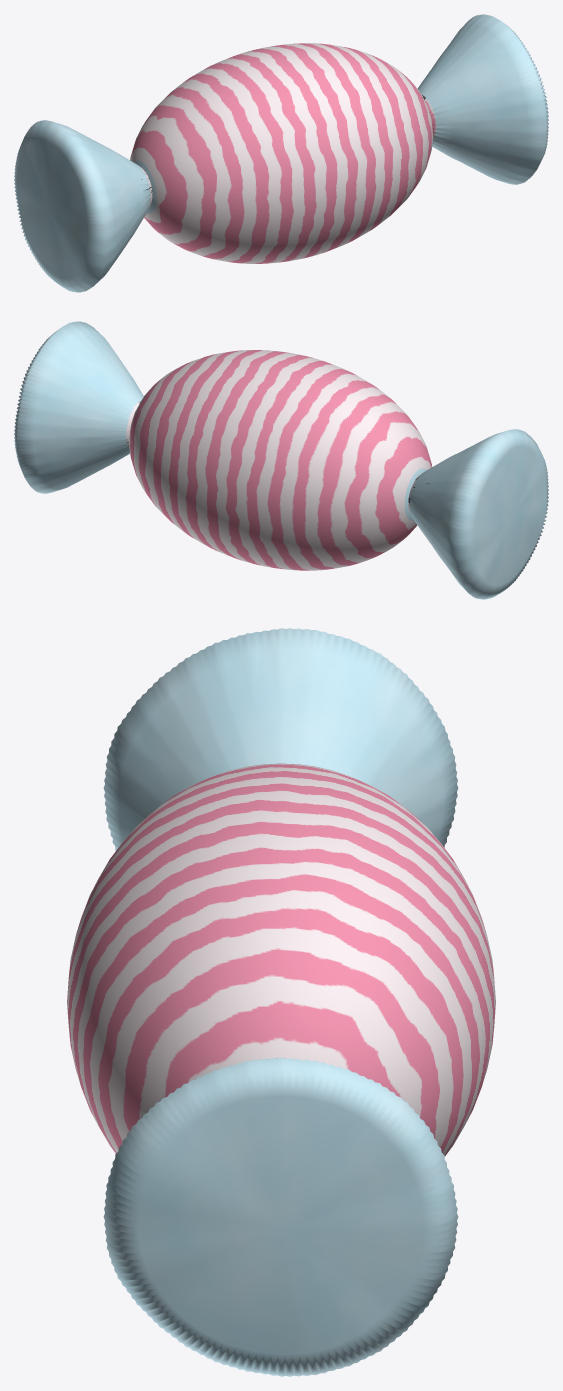
Rendered from Snack_Candy.fbx.
The picture shows the model from 3 angles, top to bottom: view 1: azimuth 30°, elevation 25°; view 2: azimuth 150°, elevation 25°; view 3: azimuth 270°, elevation 25°; orthographic projection. The views are drawn at different scales.
Visible parts, largest first — view 1: Snack_Candy; view 2: Snack_Candy; view 3: Snack_Candy.
Part boxes in pixels (x1,y1,x2,y2): Snack_Candy: (14, 14, 548, 292); Snack_Candy: (14, 321, 548, 599); Snack_Candy: (67, 628, 495, 1376).
Bounding box in the file's own units: 262 × 105 × 105.
